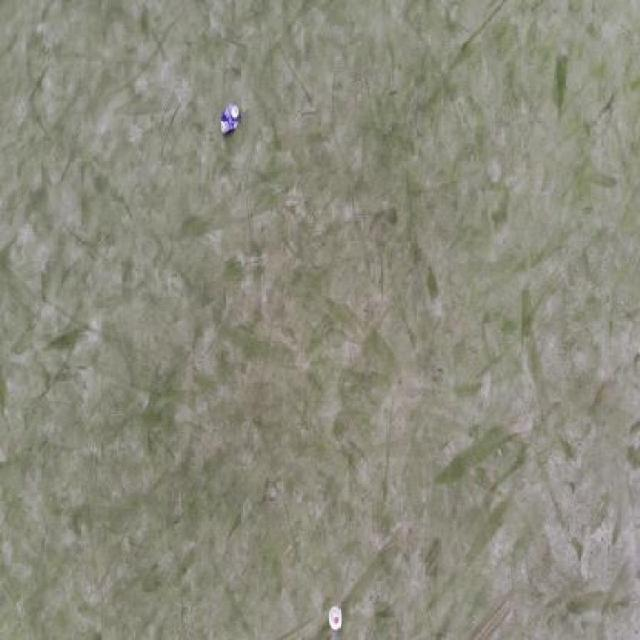Garbage: (218, 103, 240, 137), (329, 605, 341, 631)
